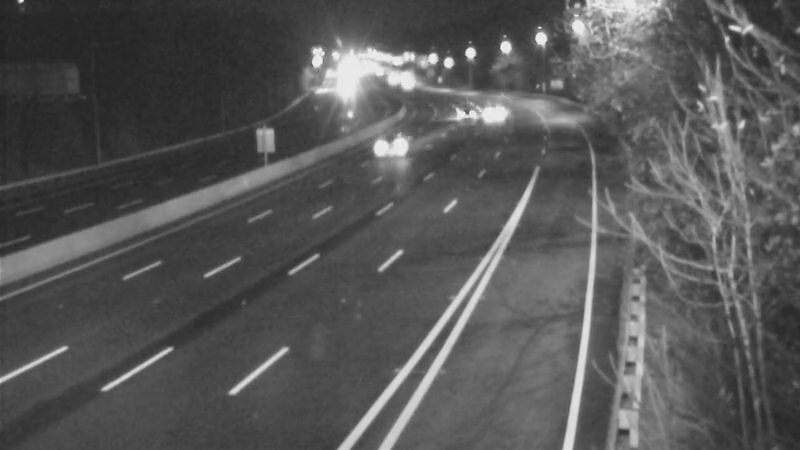vehicle: (464, 89, 514, 139), (441, 87, 491, 137), (366, 119, 416, 169)
